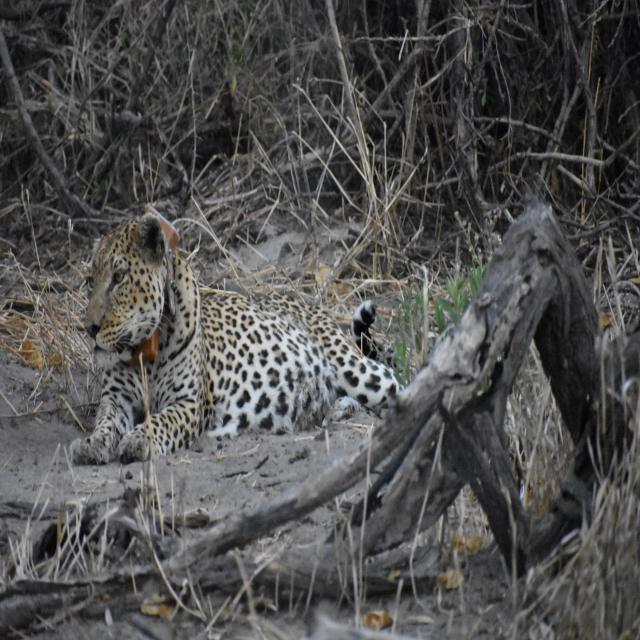Leopard: (53, 220, 400, 476)
